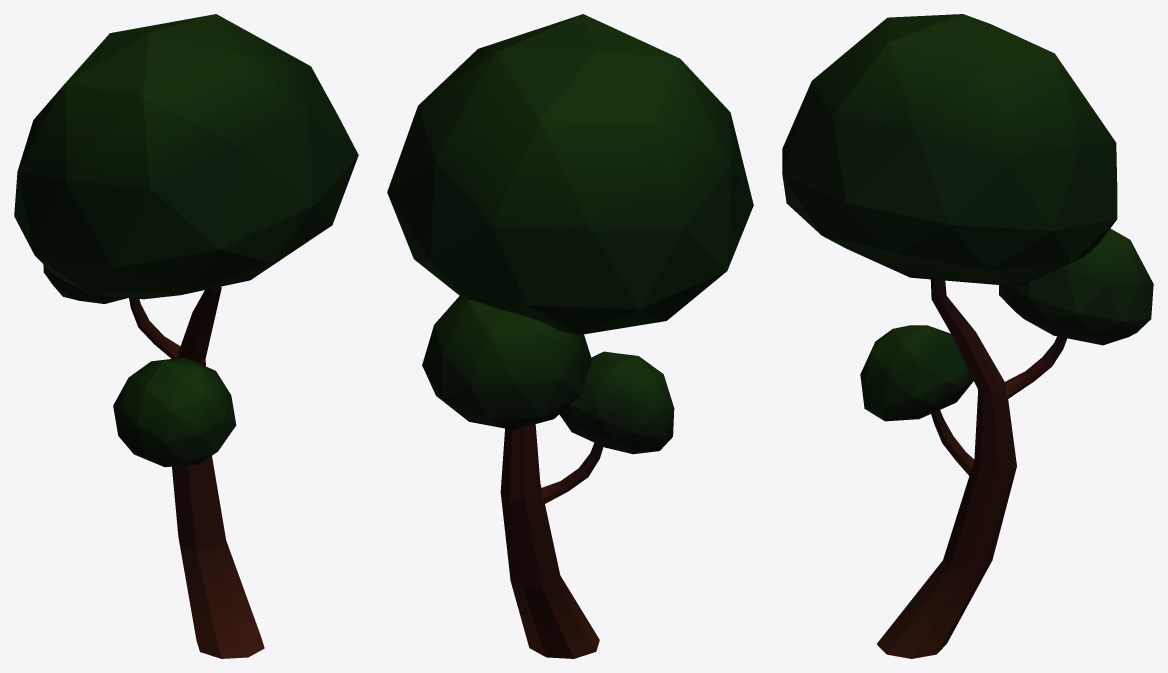
File: Twisted Maple 1.fbx
The picture shows the model from 3 angles, left to right: view 1: azimuth 30°, elevation 25°; view 2: azimuth 150°, elevation 25°; view 3: azimuth 270°, elevation 25°; orthographic projection. The views are drawn at different scales.
Parts seen in each view (by area): view 1: Maple Tree; view 2: Maple Tree; view 3: Maple Tree.
Part boxes in pixels (box(x1,y1,x2,y2)): Maple Tree: box(14, 14, 358, 658); Maple Tree: box(387, 14, 753, 658); Maple Tree: box(782, 14, 1153, 658).
Bounding box in the file's own units: 224 × 428 × 239.
